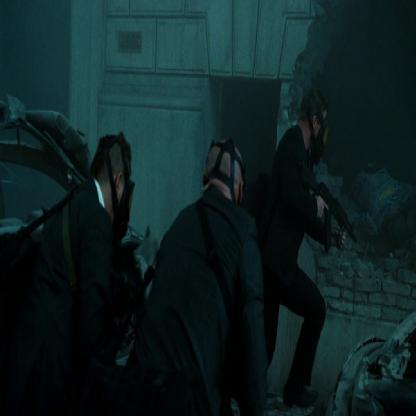Guns: (297, 157, 360, 254)
